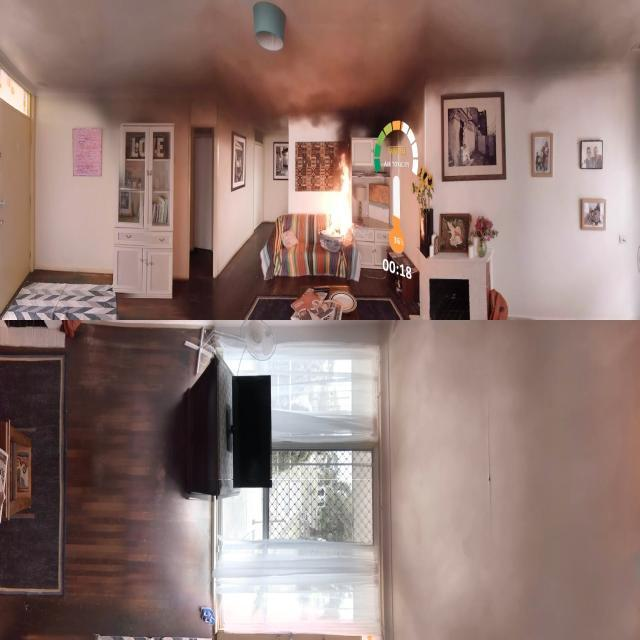Fire: (292, 90, 388, 316)
